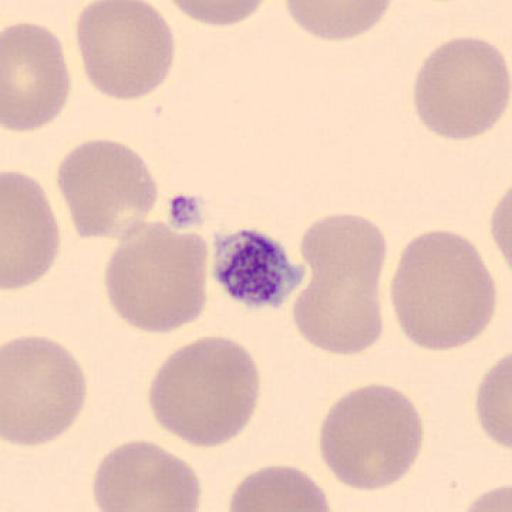Platelet: (210, 226, 306, 311)
RBC: (388, 227, 498, 353), (294, 212, 387, 356), (147, 334, 261, 449), (102, 223, 209, 334), (319, 382, 425, 492), (55, 136, 160, 242), (412, 35, 511, 141), (74, 0, 176, 102), (2, 334, 89, 448), (90, 437, 203, 512), (2, 20, 71, 134), (2, 169, 61, 291), (226, 464, 333, 512), (283, 0, 394, 42), (475, 350, 512, 451), (164, 0, 270, 28), (489, 181, 512, 277), (489, 192, 512, 268), (460, 484, 511, 512)
